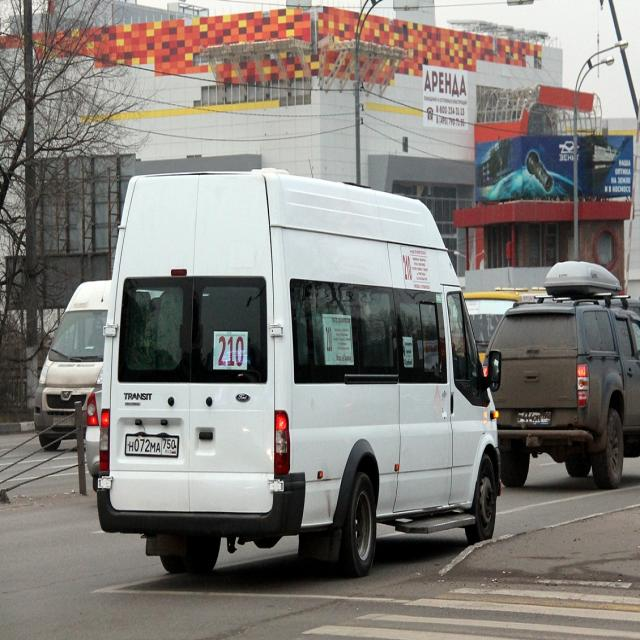number-of-bus: (213, 332, 251, 373)
